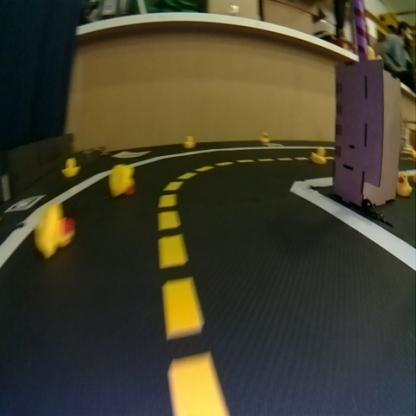Duckie: (36, 204, 74, 257), (109, 164, 135, 196), (62, 157, 80, 177), (397, 173, 410, 196), (310, 146, 326, 163), (185, 134, 193, 146), (261, 133, 267, 142)
QR code: (4, 193, 40, 210)
